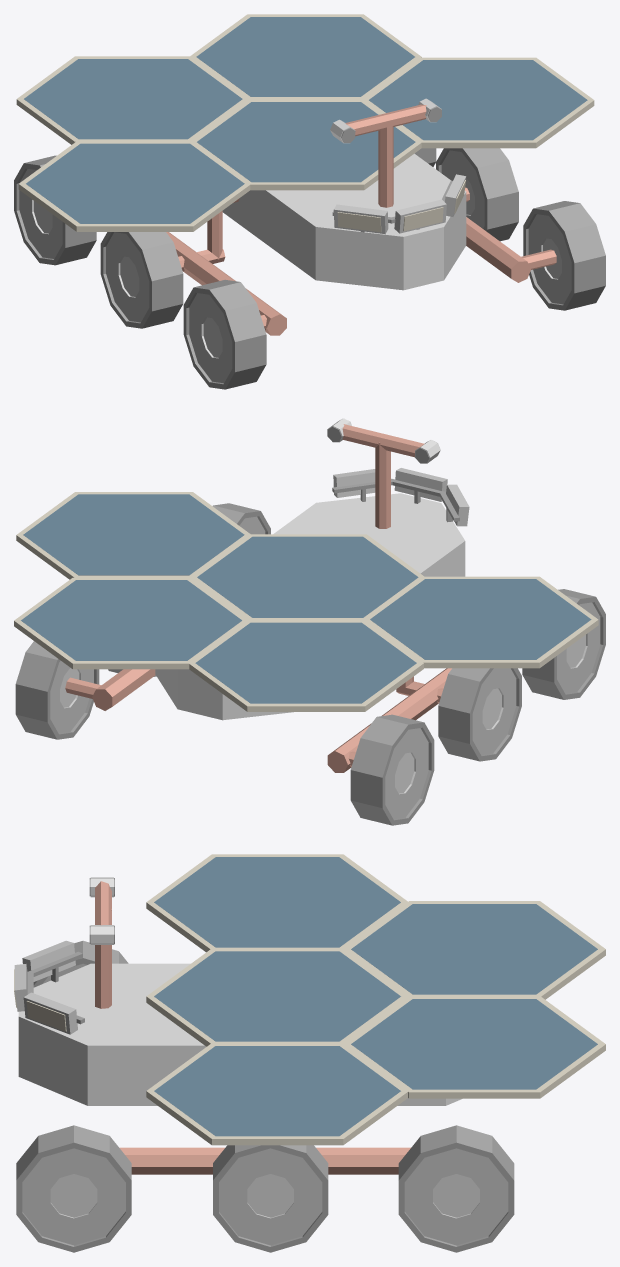
File: moon rover.fbx
3 views of the same model, one above another, from view 1: azimuth 30°, elevation 25°; view 2: azimuth 150°, elevation 25°; view 3: azimuth 270°, elevation 25° (orthographic). The views are drawn at different scales.
Visible parts, largest first — view 1: Cube_1, Boole_1, Boole_1_2, Boole, Boole_2_2, Boole_2; view 2: Cube_1, Boole_2, Boole, Boole_2_3, Boole_1, Boole_1_2; view 3: Cube_1, Boole_2_3, Boole_1_2, Boole_2_2, Boole_1.
Boxes of the visible parts, bbox=[...] form: Cube_1: bbox=[16, 14, 594, 335]; Boole_1: bbox=[183, 279, 266, 389]; Boole_1_2: bbox=[523, 201, 605, 310]; Boole: bbox=[100, 232, 183, 328]; Boole_2_2: bbox=[436, 148, 518, 241]; Boole_2: bbox=[14, 155, 96, 265]; Cube_1: bbox=[14, 418, 598, 772]; Boole_2: bbox=[350, 714, 434, 825]; Boole: bbox=[438, 668, 521, 761]; Boole_2_3: bbox=[15, 641, 99, 739]; Boole_1: bbox=[522, 589, 605, 699]; Boole_1_2: bbox=[212, 503, 270, 534]; Cube_1: bbox=[14, 854, 605, 1174]; Boole_2_3: bbox=[398, 1125, 514, 1252]; Boole_1_2: bbox=[16, 1125, 131, 1252]; Boole_2_2: bbox=[213, 1145, 328, 1252]; Boole_1: bbox=[33, 940, 128, 987].
Bounding box in the file's own units: 273 × 112 × 239.
